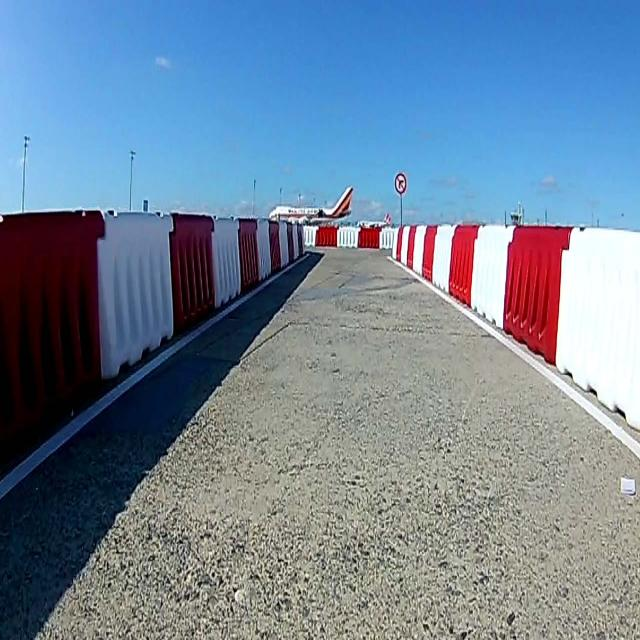sagadonulmez: (393, 172, 407, 196)
